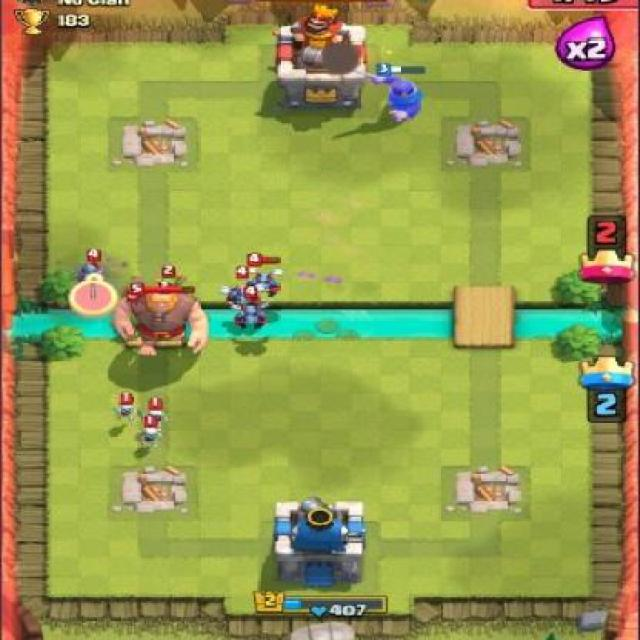Enemy-Giant: (110, 280, 212, 357)
Enemy-Minion: (218, 266, 270, 312), (230, 284, 272, 334), (244, 251, 285, 300)
Enemy-Musketeer: (71, 248, 115, 300)
Enemy-Skeleton: (140, 394, 172, 434), (137, 415, 169, 450), (112, 390, 140, 427)
Enemy-SpearGoblin: (153, 264, 190, 302), (123, 285, 155, 321), (152, 278, 182, 316)
Player-Knight: (349, 61, 433, 128)
